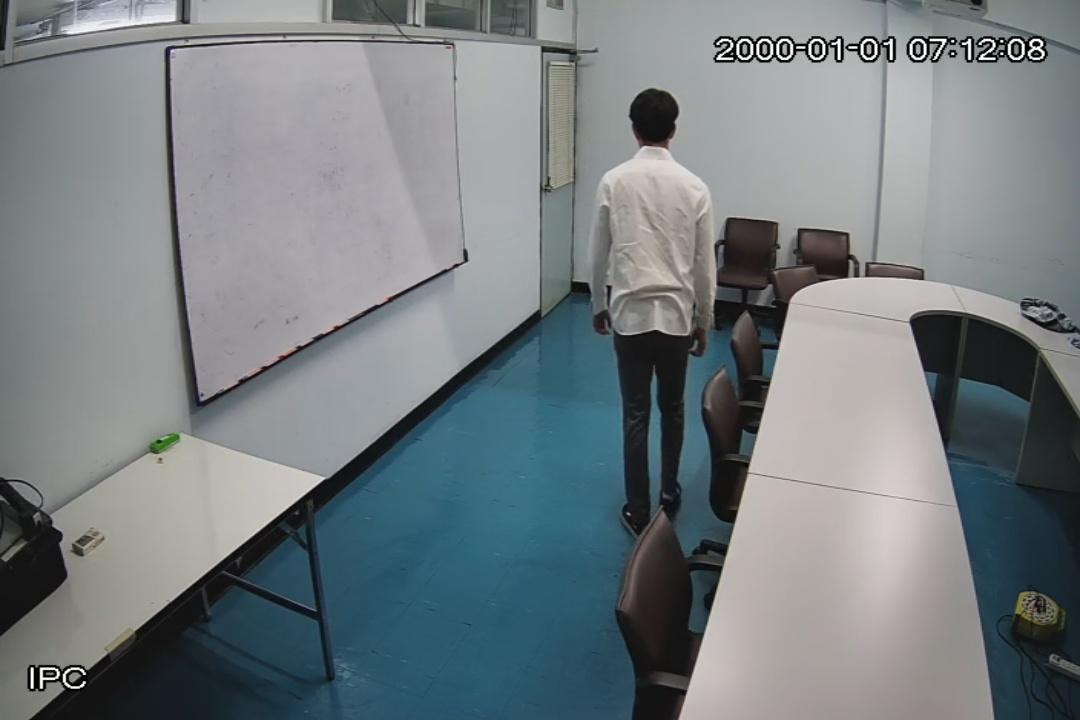normal: (588, 85, 720, 545)
